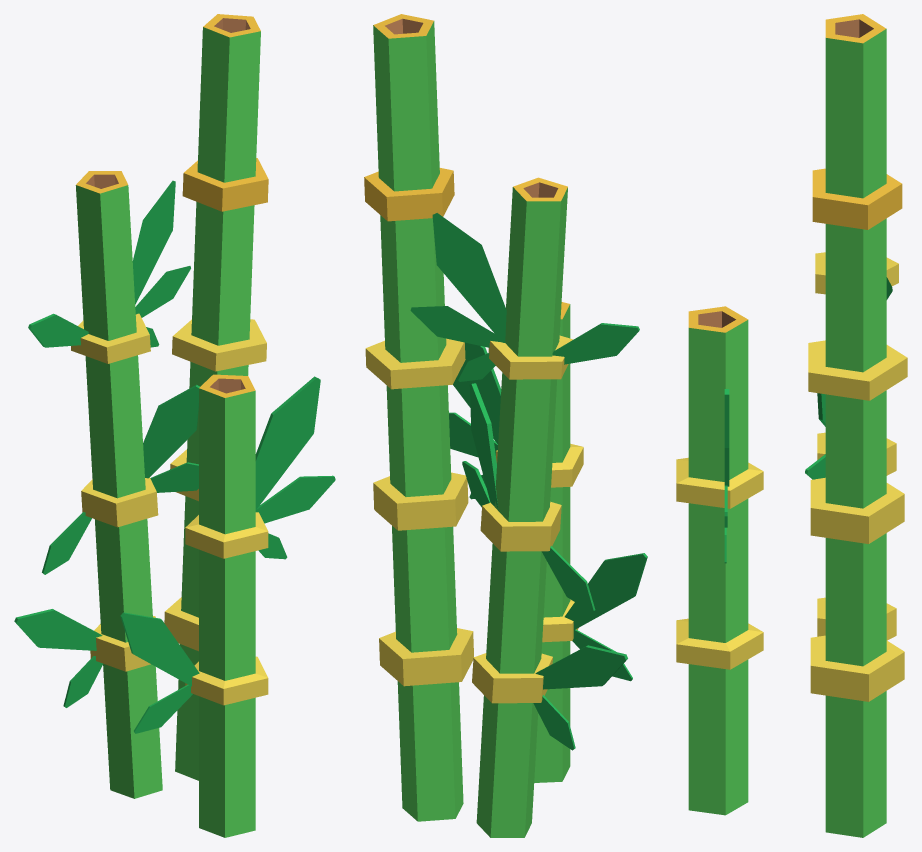
The model's file is Bamboo_Trio.fbx.
3 views of the same model, side by side, from view 1: azimuth 30°, elevation 25°; view 2: azimuth 150°, elevation 25°; view 3: azimuth 270°, elevation 25° (orthographic). The views are drawn at different scales.
Visible parts, largest first — view 1: Cylinder.015, Cylinder.025, Bamoo, Cylinder.014, Cylinder.020, Cylinder.010, Cylinder.024, Cylinder.016, Cylinder.012, Cylinder.021, Cylinder.019, Cylinder.022 (+3 smaller); view 2: Cylinder.025, Cylinder.015, Bamoo, Cylinder.024, Cylinder.010, Cylinder.016, Cylinder.021, Cylinder.022, Cylinder.020, Cylinder.014, Cylinder.019, Cylinder.017 (+4 smaller); view 3: Cylinder.025, Bamoo, Cylinder.015, Cylinder.014.
Boxes of the visible parts, left/top/right/bottom form: Cylinder.015: left=71, top=171, right=162, bottom=798; Cylinder.025: left=164, top=14, right=268, bottom=780; Bamoo: left=185, top=374, right=268, bottom=837; Cylinder.014: left=255, top=376, right=320, bottom=509; Cylinder.020: left=143, top=384, right=199, bottom=478; Cylinder.010: left=120, top=612, right=199, bottom=686; Cylinder.024: left=132, top=180, right=175, bottom=304; Cylinder.016: left=14, top=609, right=102, bottom=650; Cylinder.012: left=255, top=475, right=335, bottom=523; Cylinder.021: left=28, top=313, right=88, bottom=347; Cylinder.019: left=42, top=512, right=91, bottom=574; Cylinder.022: left=135, top=266, right=190, bottom=317; Cylinder.025: left=364, top=14, right=473, bottom=821; Cylinder.015: left=472, top=177, right=573, bottom=837; Bamoo: left=496, top=302, right=583, bottom=782; Cylinder.024: left=432, top=213, right=506, bottom=342; Cylinder.010: left=564, top=553, right=647, bottom=629; Cylinder.016: left=535, top=645, right=627, bottom=689; Cylinder.021: left=552, top=323, right=639, bottom=364; Cylinder.022: left=410, top=306, right=501, bottom=347; Cylinder.020: left=469, top=383, right=498, bottom=508; Cylinder.014: left=453, top=342, right=501, bottom=444; Cylinder.019: left=541, top=546, right=595, bottom=612; Cylinder.017: left=533, top=695, right=575, bottom=750; Cylinder.025: left=808, top=14, right=907, bottom=837; Bamoo: left=676, top=306, right=763, bottom=815; Cylinder.015: left=815, top=252, right=898, bottom=640; Cylinder.014: left=724, top=389, right=729, bottom=486.
Bounding box in the file's own units: 33.39 × 91.24 × 23.54.
